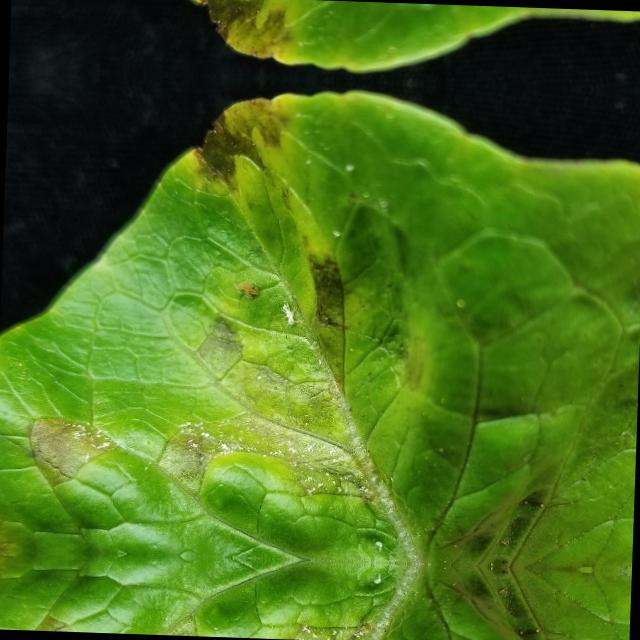Downy_mildew: (161, 393, 340, 508), (183, 94, 292, 220), (172, 304, 294, 394), (443, 472, 558, 561), (440, 570, 554, 640), (276, 230, 344, 343), (7, 418, 118, 484), (189, 0, 296, 58), (157, 606, 333, 640), (2, 618, 111, 633)
